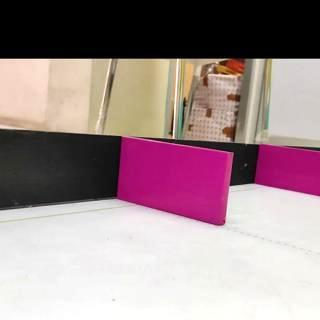xparking: (117, 137, 231, 226), (256, 144, 320, 197)
